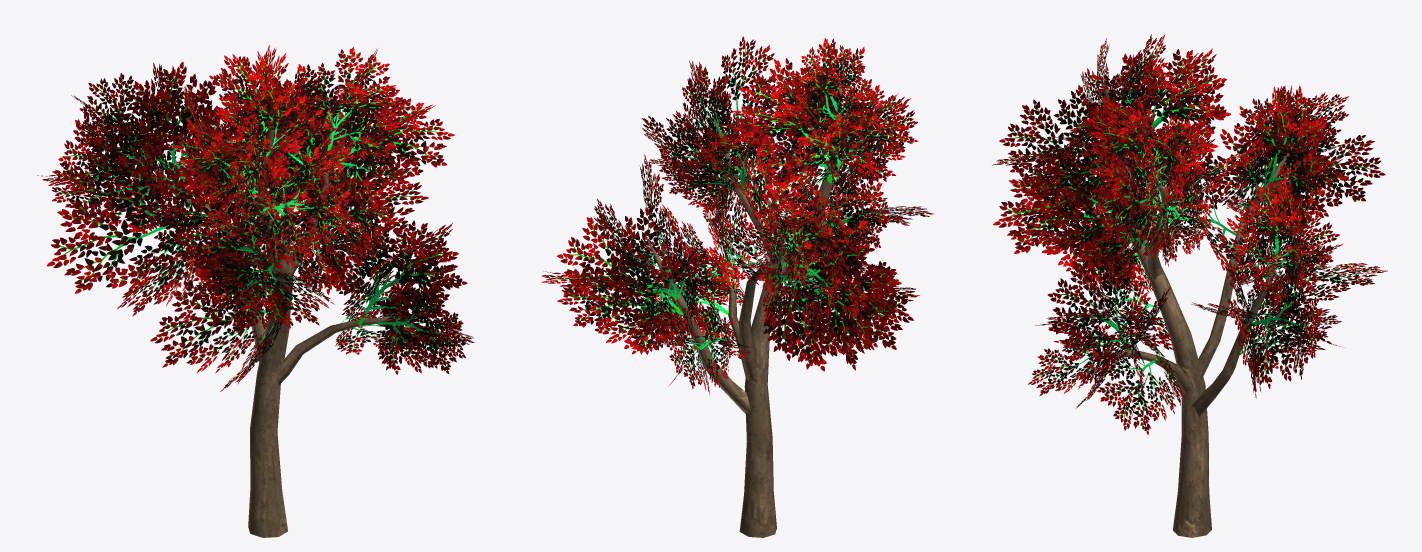
Rendered from Tree_02.fbx.
The picture shows the model from 3 angles, left to right: view 1: azimuth 30°, elevation 25°; view 2: azimuth 150°, elevation 25°; view 3: azimuth 270°, elevation 25°; orthographic projection. The views are drawn at different scales.
Parts seen in each view (by area): view 1: Tree_02_LOD0; view 2: Tree_02_LOD0; view 3: Tree_02_LOD0.
Boxes of the visible parts, box(x1,y1,x2,y2) form: Tree_02_LOD0: box(37, 45, 474, 537); Tree_02_LOD0: box(541, 36, 933, 537); Tree_02_LOD0: box(992, 34, 1387, 537).
Size of what is drawn, in the model's own units: 10.1 by 12.72 by 10.02.
Materials: 1 (1 with a texture image).
